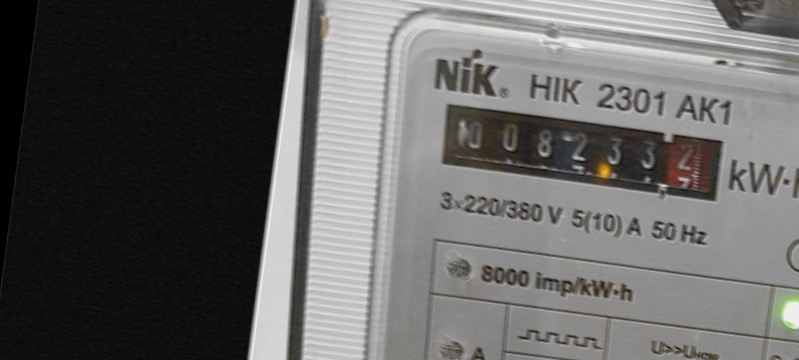0: (463, 116, 488, 150), (499, 119, 522, 152)
2: (568, 128, 592, 163), (676, 138, 697, 172)
3: (604, 132, 626, 165), (640, 136, 660, 169)
8: (535, 124, 556, 158)
screen: (429, 89, 737, 210)
